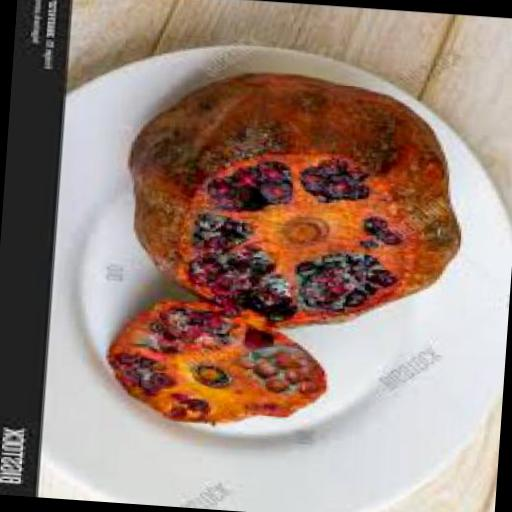biodegradable: (120, 64, 476, 343), (107, 299, 336, 435)
